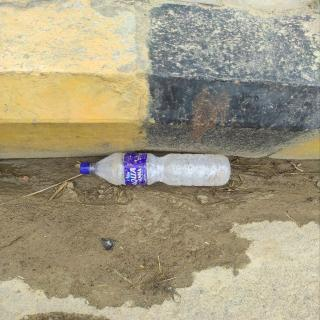Plastic-bottle: (78, 150, 234, 190)
